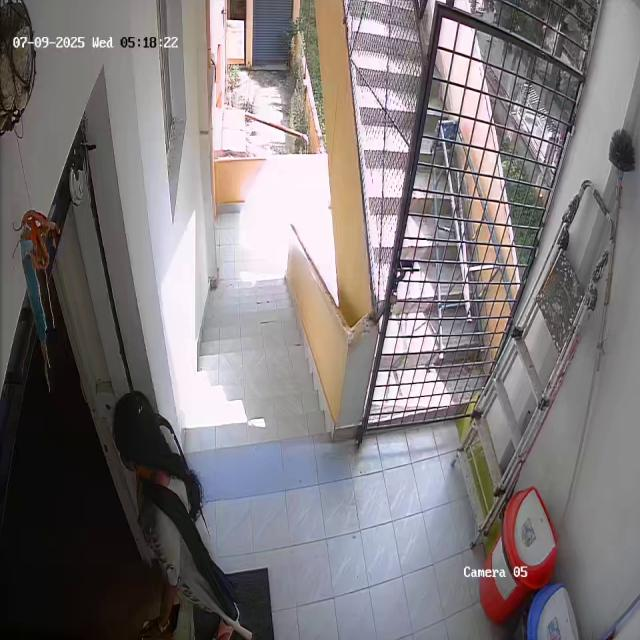person: (108, 392, 238, 640)
